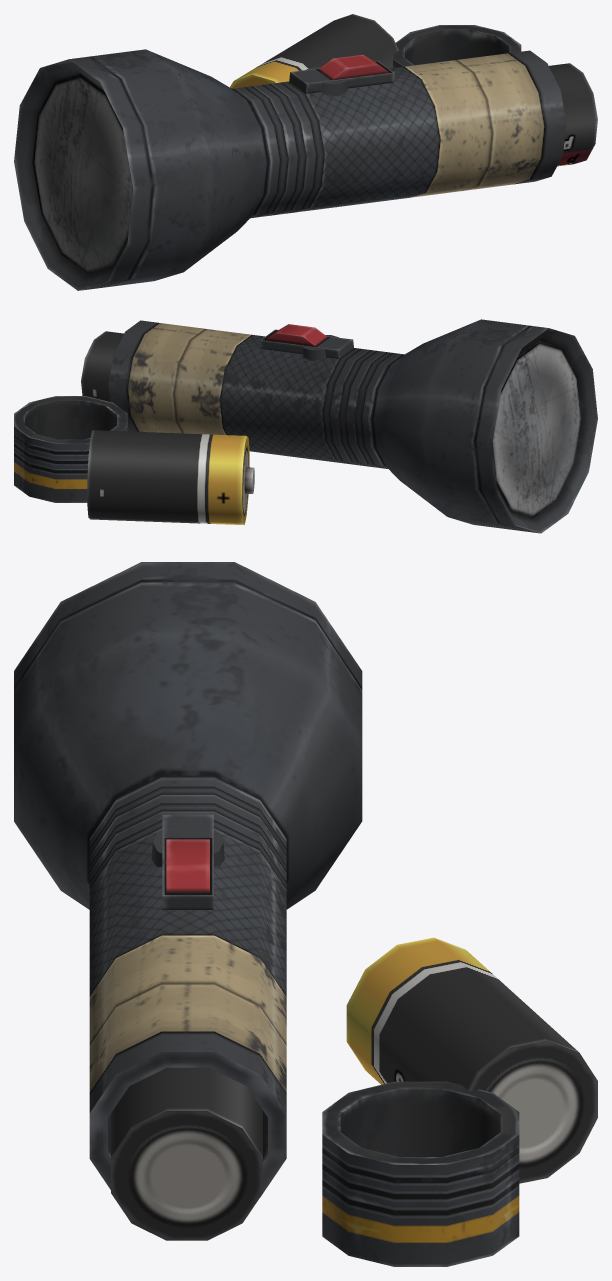
File: ITEM_flashlight01_B.FBX
The picture shows the model from 3 angles, top to bottom: view 1: azimuth 30°, elevation 25°; view 2: azimuth 150°, elevation 25°; view 3: azimuth 270°, elevation 25°; orthographic projection. The views are drawn at different scales.
Parts seen in each view (by area): view 1: ITEM_flashlight01_B; view 2: ITEM_flashlight01_B; view 3: ITEM_flashlight01_B.
Part boxes in pixels (x1=…): ITEM_flashlight01_B: x1=14, y1=14, x2=597, y2=290; ITEM_flashlight01_B: x1=14, y1=319, x2=597, y2=533; ITEM_flashlight01_B: x1=14, y1=562, x2=597, y2=1266.
Bounding box in the file's own units: 20.28 × 7.86 × 12.71.
